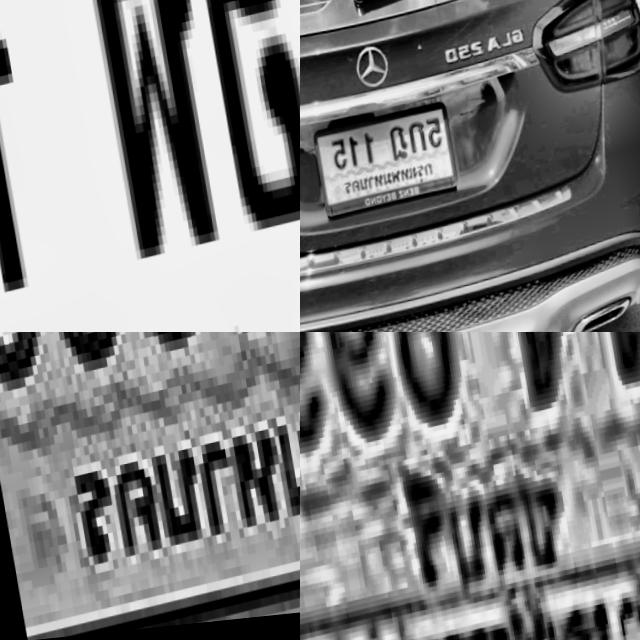license-plate: (300, 332, 640, 640), (0, 0, 300, 332), (0, 332, 300, 640), (304, 98, 462, 231)
